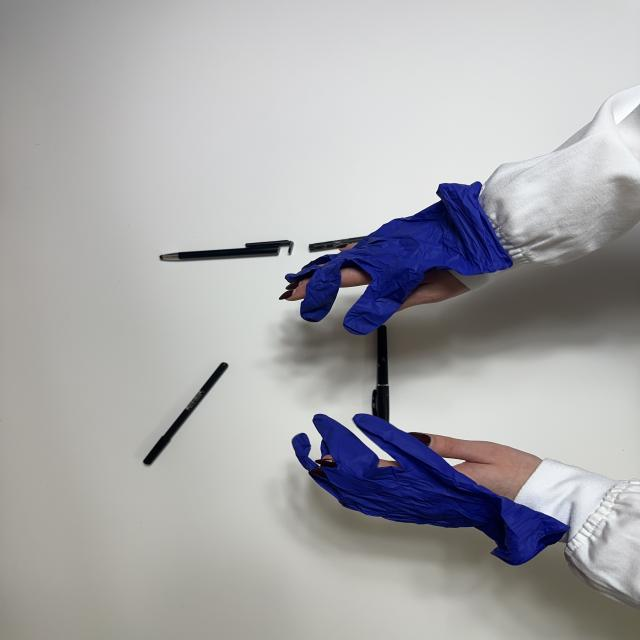glove_not_fitted: (292, 410, 579, 569), (280, 180, 524, 338)
